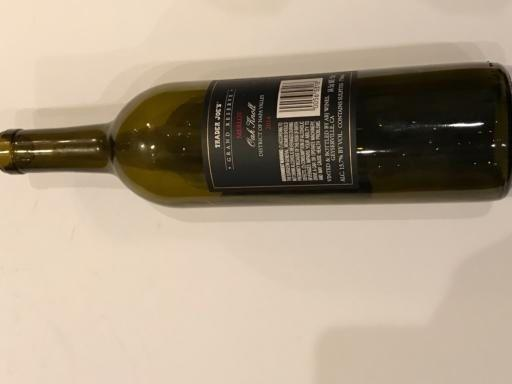botolkaca: (1, 65, 512, 202)
